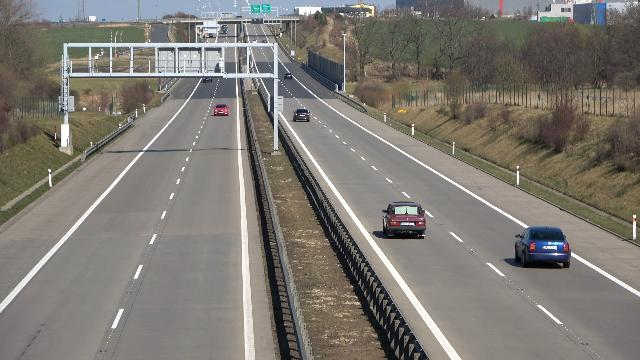car: (512, 224, 574, 272), (386, 201, 428, 239), (293, 108, 311, 122), (213, 103, 230, 116), (284, 72, 294, 80)
